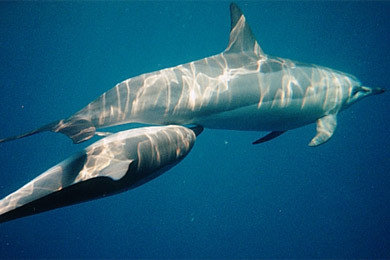fish: (5, 2, 389, 148), (1, 104, 203, 225)
